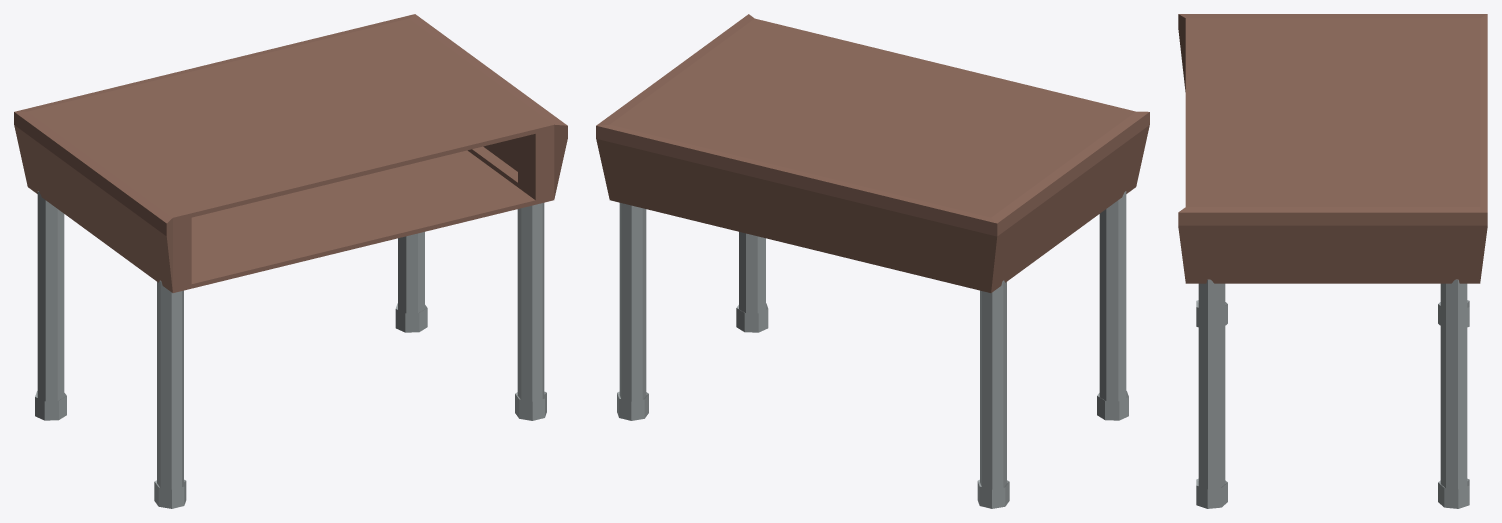
Rendered from desk.fbx.
3 renders of one model, left to right at view 1: azimuth 30°, elevation 25°; view 2: azimuth 150°, elevation 25°; view 3: azimuth 270°, elevation 25°, orthographic.
Visible parts, largest first — view 1: Cube.001, Cylinder; view 2: Cube.001, Cylinder; view 3: Cube.001, Cylinder.
Boxes of the visible parts, <box> form: Cube.001: <box>14,14,567,292</box>; Cylinder: <box>35,191,546,508</box>; Cube.001: <box>596,14,1149,292</box>; Cylinder: <box>617,191,1128,508</box>; Cube.001: <box>1178,14,1487,283</box>; Cylinder: <box>1196,279,1469,508</box>.
Size of the model in its own units: 1260 by 889 by 831.
